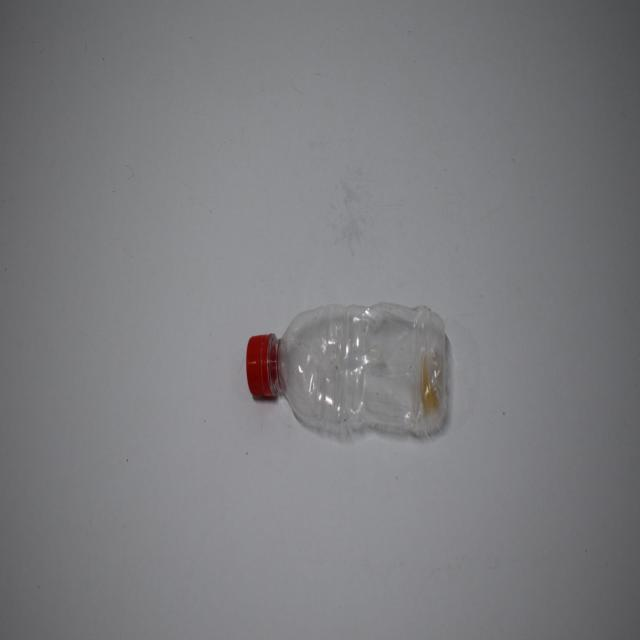bottle: (229, 282, 470, 466)
